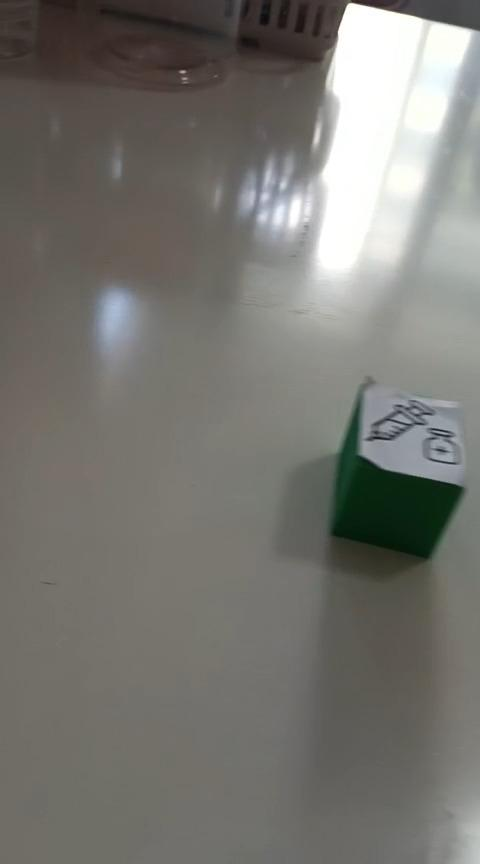antiseptic cream: (328, 376, 468, 560)
